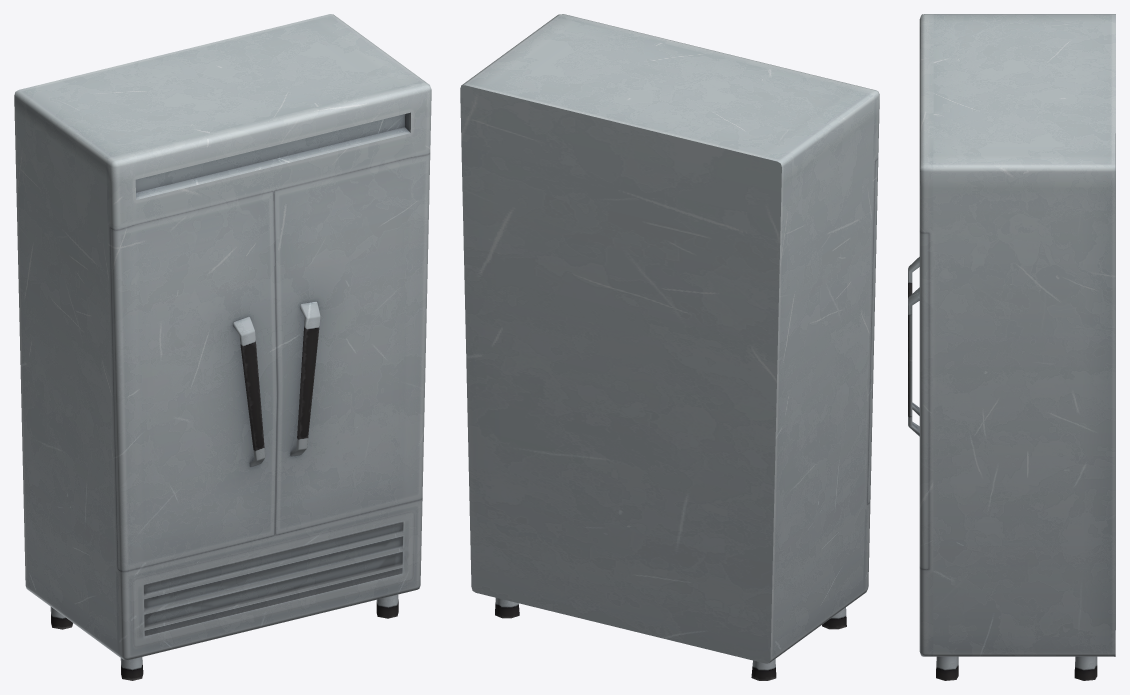
The model's file is CommRefrigerator01.FBX.
3 renders of one model, left to right at view 1: azimuth 30°, elevation 25°; view 2: azimuth 150°, elevation 25°; view 3: azimuth 270°, elevation 25°, orthographic.
Visible parts, largest first — view 1: CommRefrigerator01; view 2: CommRefrigerator01; view 3: CommRefrigerator01.
Part boxes in pixels (x1,y1,x2,y2): CommRefrigerator01: (14,14,431,680); CommRefrigerator01: (460,14,879,680); CommRefrigerator01: (908,14,1115,680).
Size of what is drawn, in the model's own units: 1.4 by 2.21 by 0.7949.
